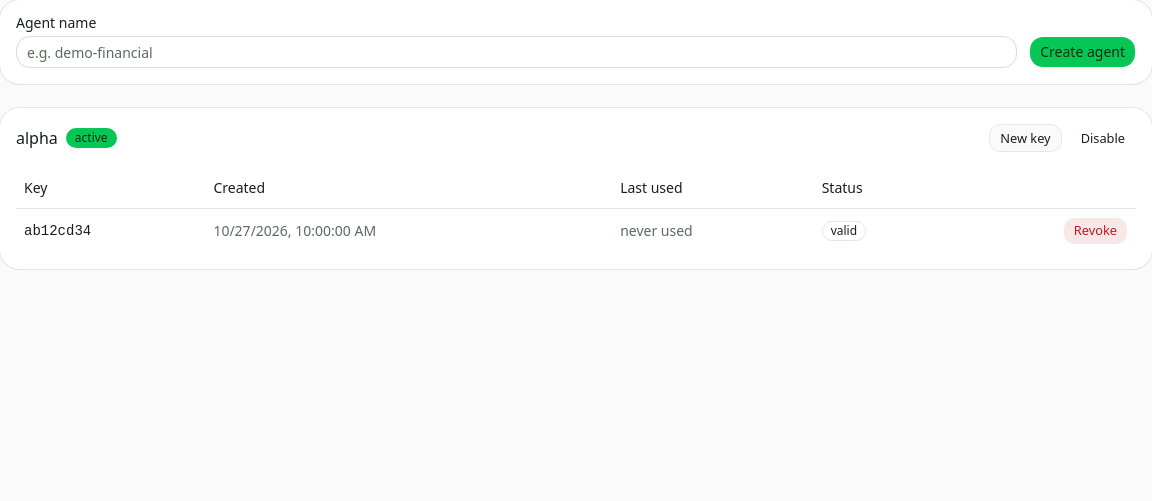
it: a new key replaces the previous one on screen
Expected: the text "alpha" is shown, [16,127,58,149]
What coordinates should you click on to do the following:
click the button with aria-label "New key for alpha"
I would click on:
 (1026, 138)
Its box is [989,124,1062,152].
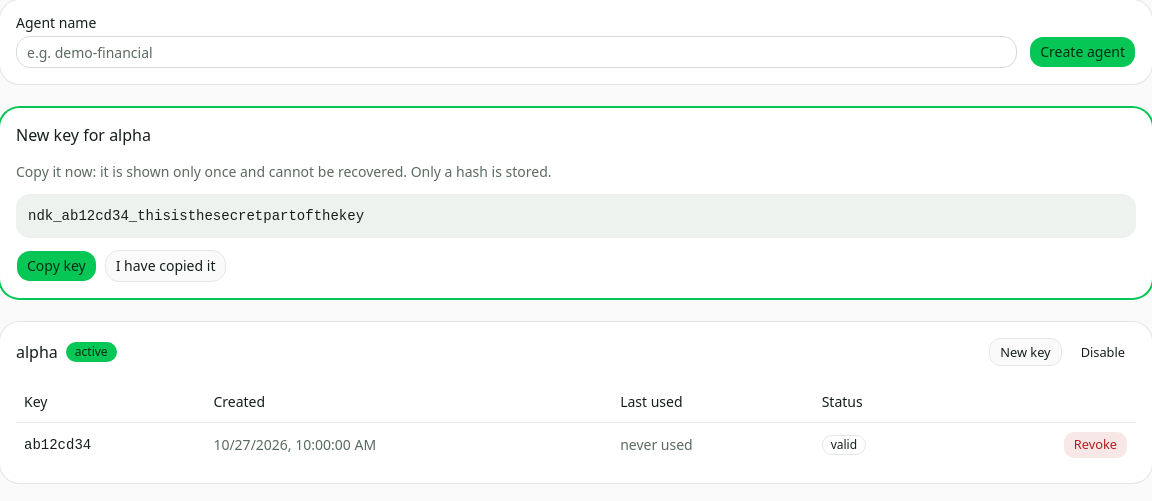
Now the text "ndk_ab12cd34_thisisthesecretpartofthekey" is shown, box [16,194,1136,238]
What coordinates should you click on to do the following:
click the button with aria-label "New key for alpha"
I would click on:
 (1026, 352)
Its box is [989,338,1062,366].
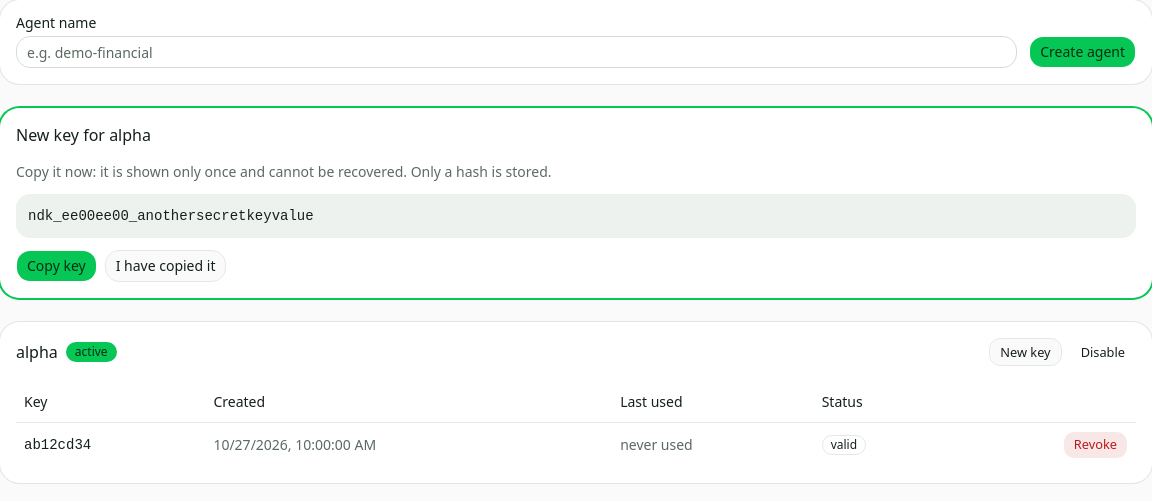
Now the text "ndk_ee00ee00_anothersecretkeyvalue" is shown, box [16,194,1136,238]
Now the text "ndk_ab12cd34_thisisthesecretpartofthekey" is gone
